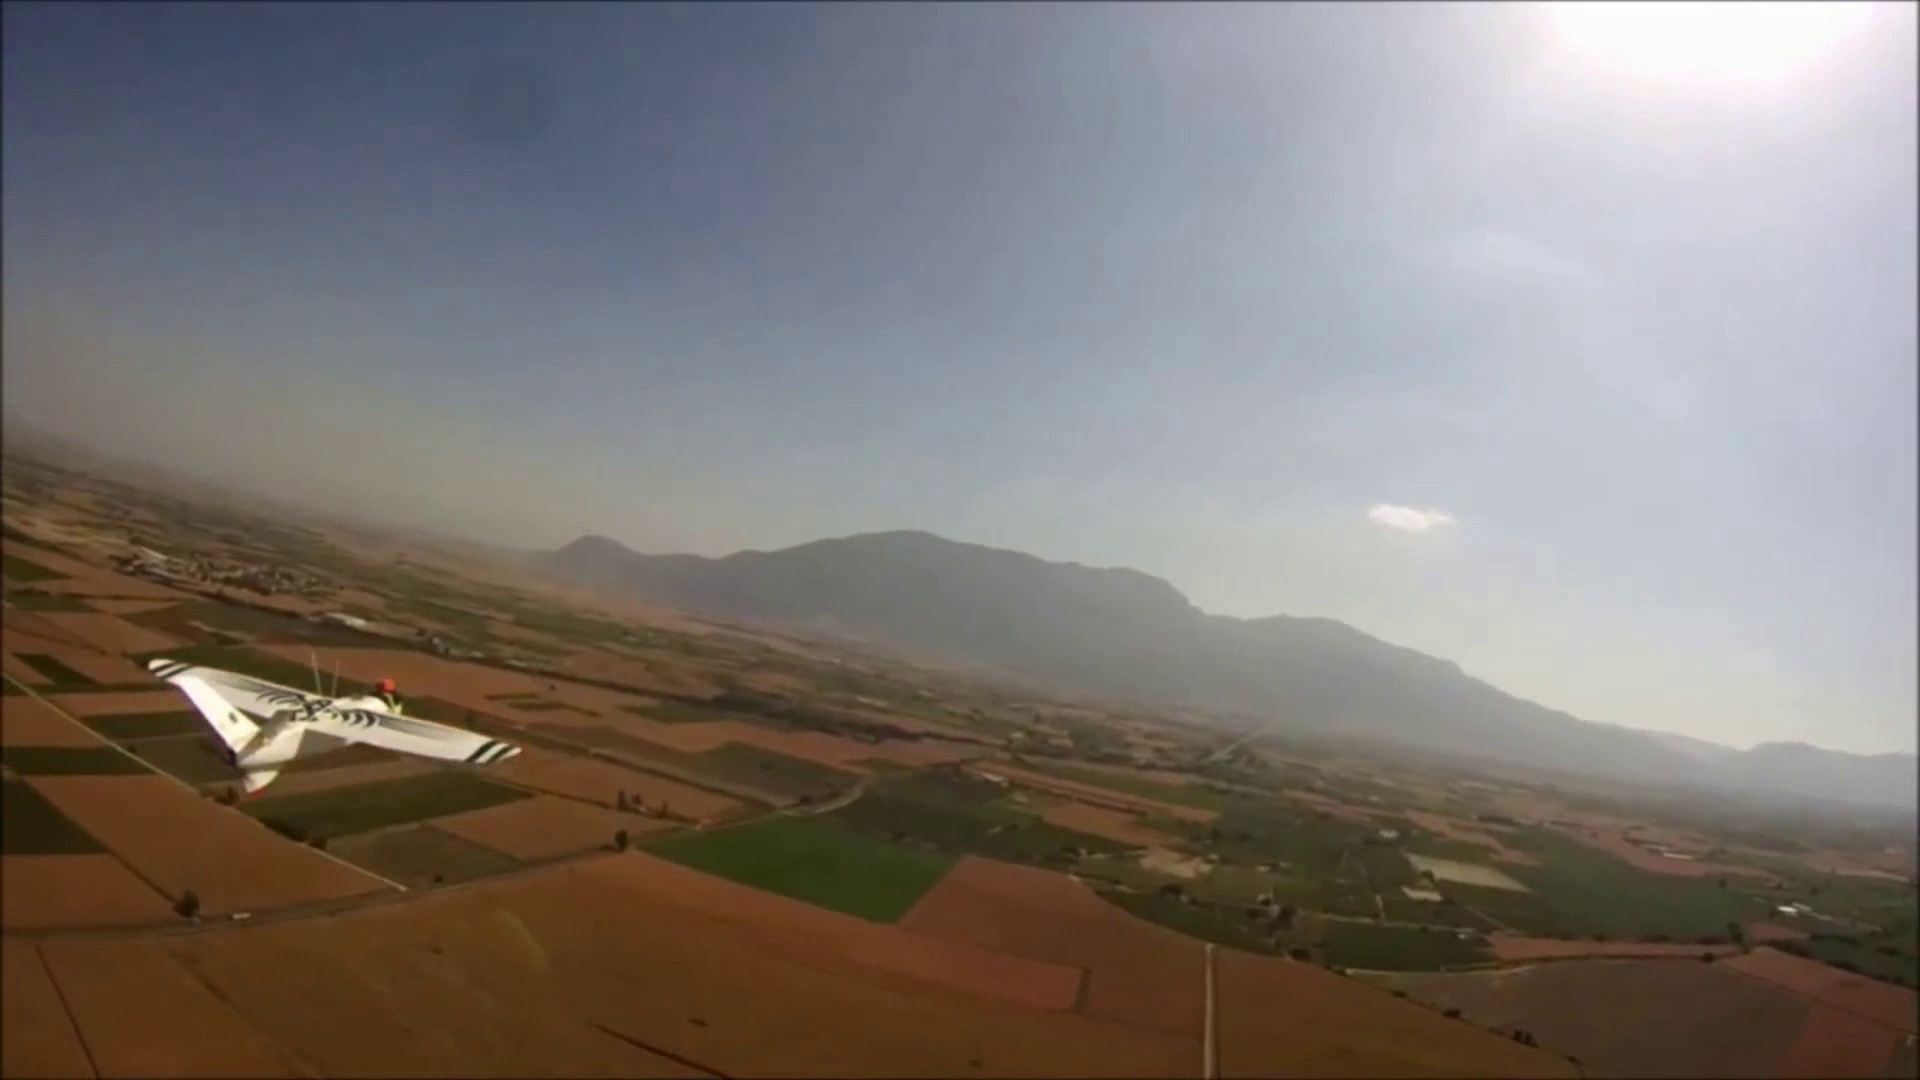airplane: (138, 642, 526, 803)
